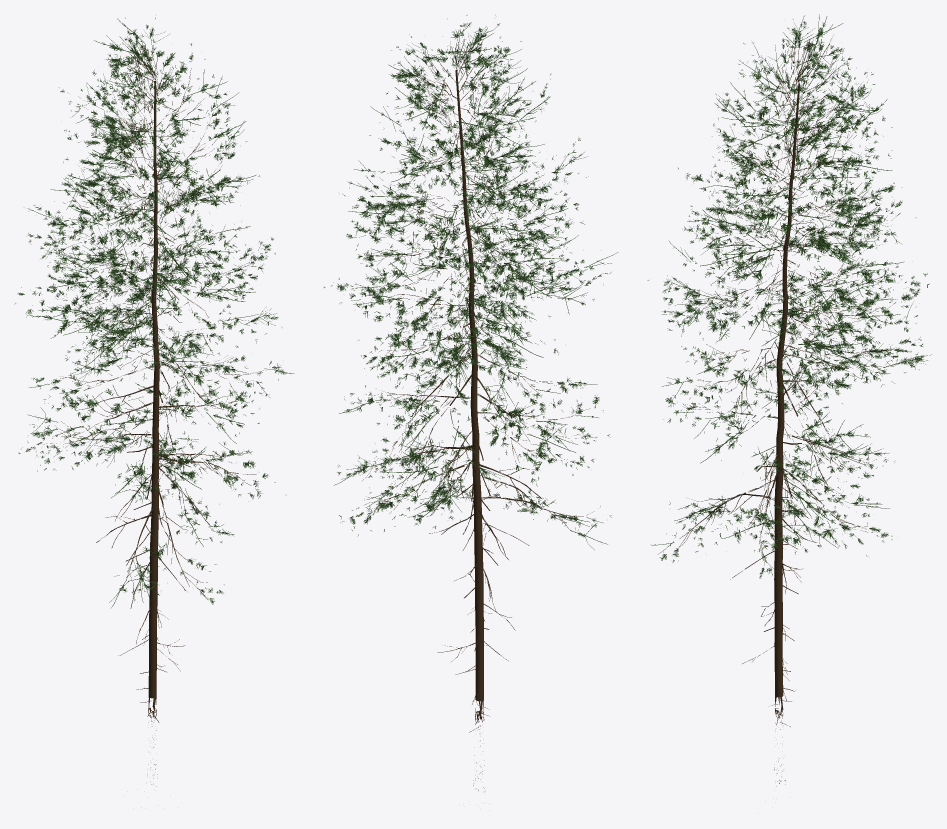
The model's file is conifer_v9_lod0.glb.
3 views of the same model, side by side, from view 1: azimuth 30°, elevation 25°; view 2: azimuth 150°, elevation 25°; view 3: azimuth 270°, elevation 25° (orthographic). The views are drawn at different scales.
Visible parts, largest first — view 1: fir_tree_01_variant_a_lod0; view 2: fir_tree_01_variant_a_lod0; view 3: fir_tree_01_variant_a_lod0.
Boxes of the visible parts, x1,y1,x2,y2 form: fir_tree_01_variant_a_lod0: (14,17,294,786); fir_tree_01_variant_a_lod0: (323,15,618,790); fir_tree_01_variant_a_lod0: (647,14,931,786).
Bounding box in the file's own units: 6.24 × 18.93 × 6.21.
